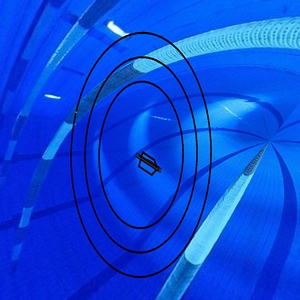circle: (70, 30, 214, 279)
submarine: (132, 148, 164, 179)
